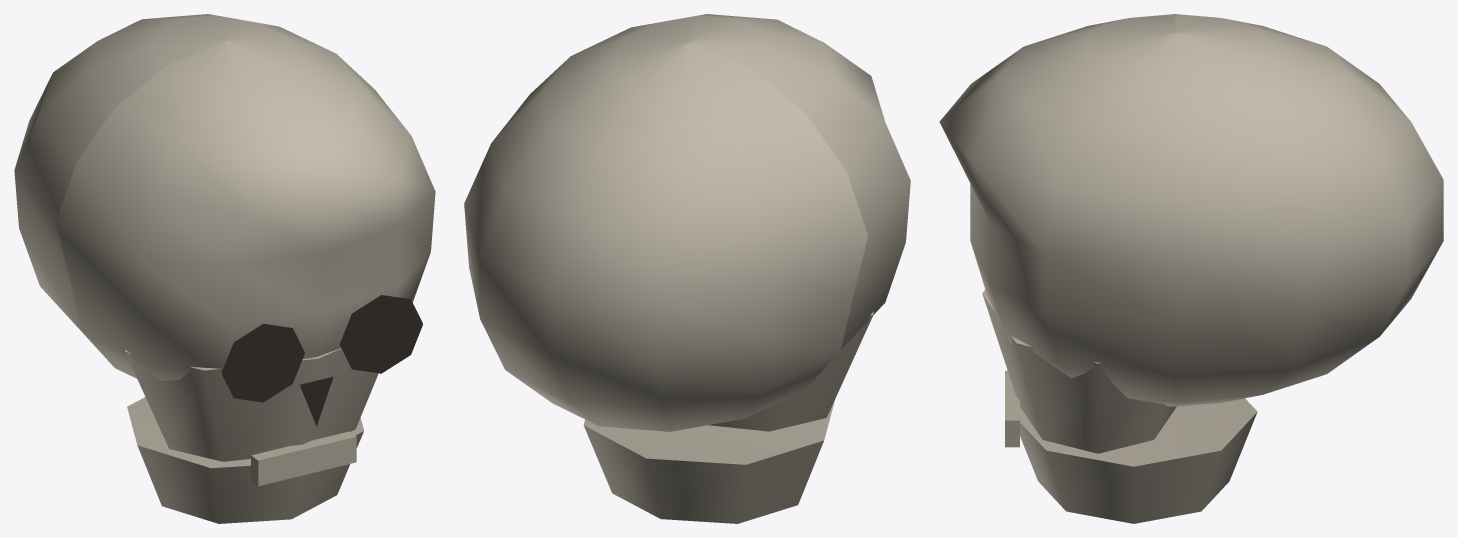
The model's file is skull.glb.
3 renders of one model, left to right at view 1: azimuth 30°, elevation 25°; view 2: azimuth 150°, elevation 25°; view 3: azimuth 270°, elevation 25°, orthographic. The views are drawn at different scales.
Visible parts, largest first — view 1: skull; view 2: skull; view 3: skull.
Part boxes in pixels (left/top/right/bottom): skull: left=14, top=14, right=435, bottom=523; skull: left=464, top=14, right=910, bottom=523; skull: left=939, top=14, right=1443, bottom=523.
Size of the model in its own units: 1.38 by 1.67 by 1.7.
